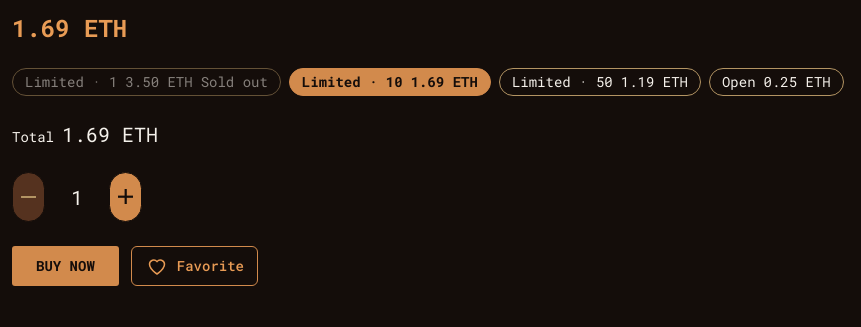
Test case: NftPurchasePanel (en) › no limite min(remaining, maxPerOrder) desabilita aumentar e mostra a mensagem
Click the button named "Increase quantity". click: (126, 197)
box: [109, 172, 142, 222]
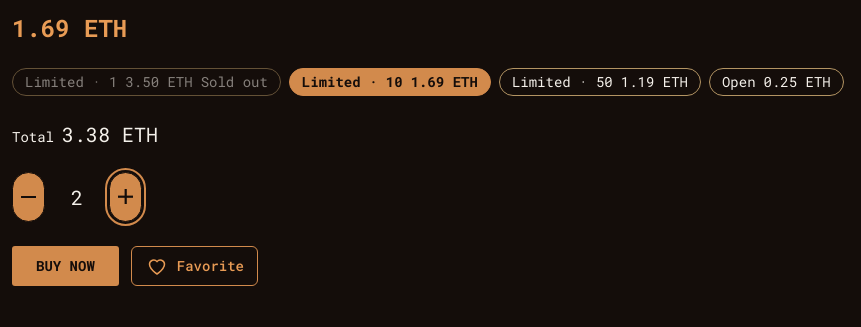
Click the button named "Increase quantity". click: (126, 197)
box: [109, 172, 142, 222]
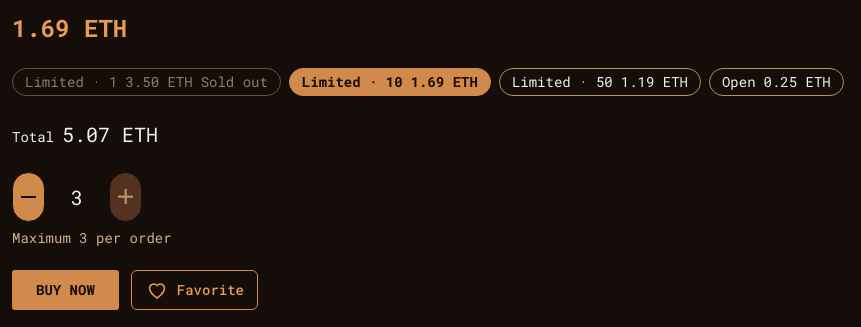
Expected: the number field named "Quantity" holds "3", [57, 183, 97, 211]
Expected: the button named "Increase quantity" is disabled, [109, 172, 142, 222]
Expected: the text "5.07 ETH" is shown, [62, 120, 158, 148]
